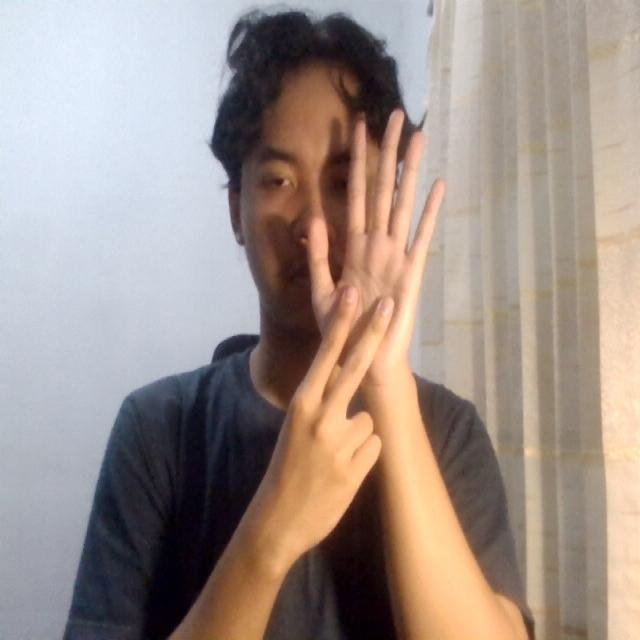IloveYou: (257, 80, 466, 521)
